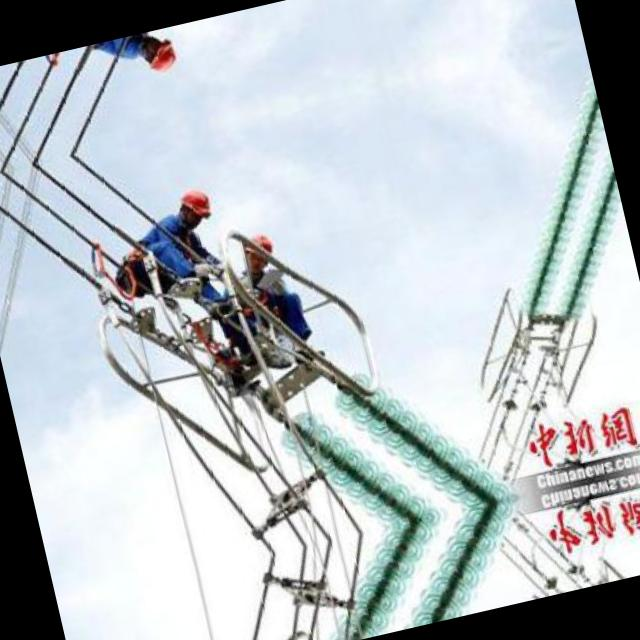helmet: (134, 30, 182, 81), (169, 180, 216, 231), (236, 224, 278, 278)
